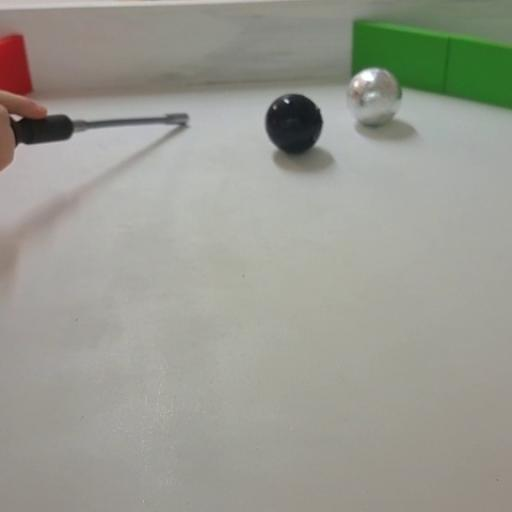alive: (345, 66, 403, 128)
dead: (264, 92, 323, 154)
